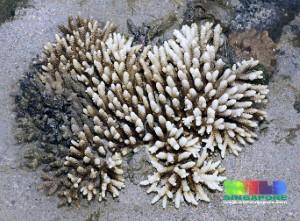bleached_corals: (12, 13, 273, 214), (181, 79, 190, 93)
